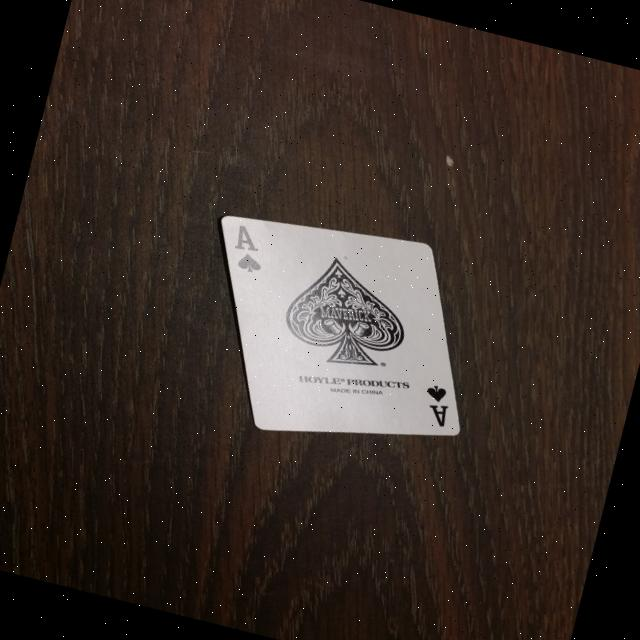As: (212, 218, 277, 282), (411, 377, 464, 436)
